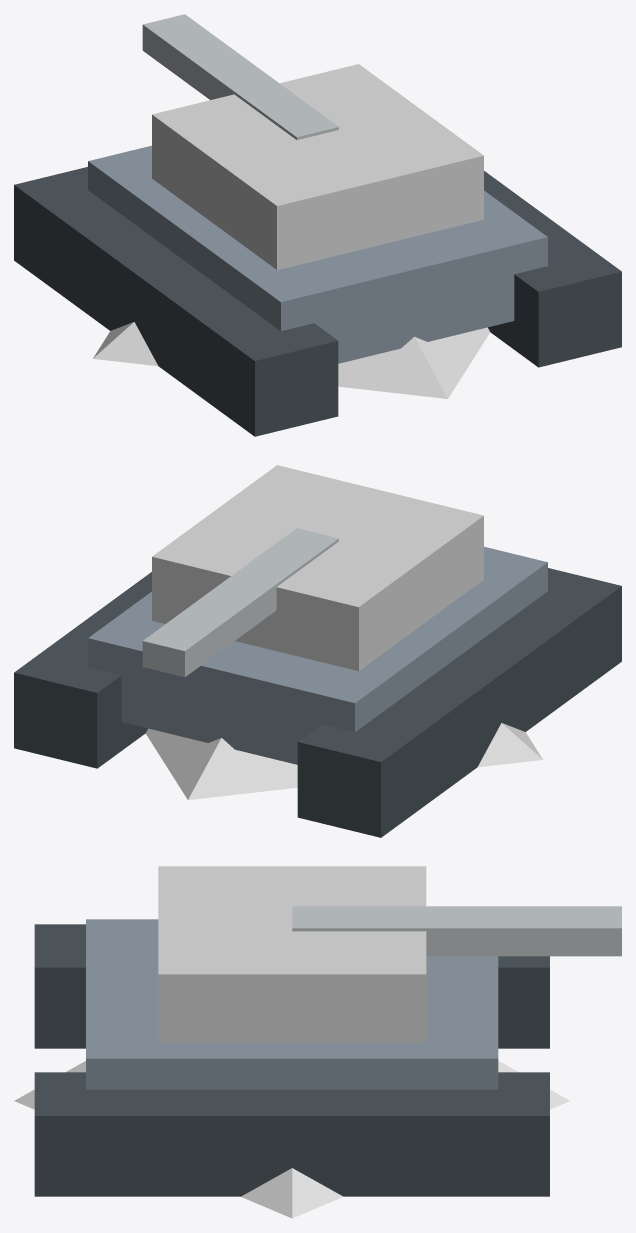
The model's file is assault.gltf.
3 views of the same model, one above another, from view 1: azimuth 30°, elevation 25°; view 2: azimuth 150°, elevation 25°; view 3: azimuth 270°, elevation 25° (orthographic). The views are drawn at different scales.
Visible parts, largest first — view 1: close, distant; view 2: close, distant; view 3: close, distant.
Part boxes in pixels (box(x1,y1,x2,y2)): close: box(14, 14, 621, 436); distant: box(93, 322, 490, 398); close: box(14, 465, 621, 837); distant: box(145, 723, 542, 799); close: box(34, 866, 621, 1196); distant: box(14, 1061, 569, 1218).
Bounding box in the file's own units: 8.1 × 2.95 × 8.85.
